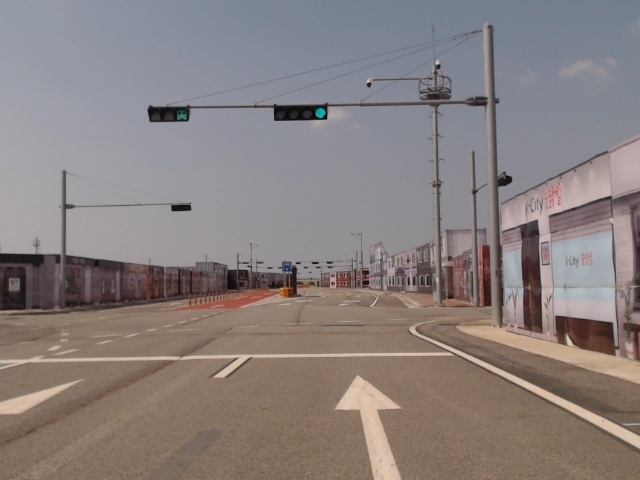straight_green_4: (274, 105, 328, 123)
